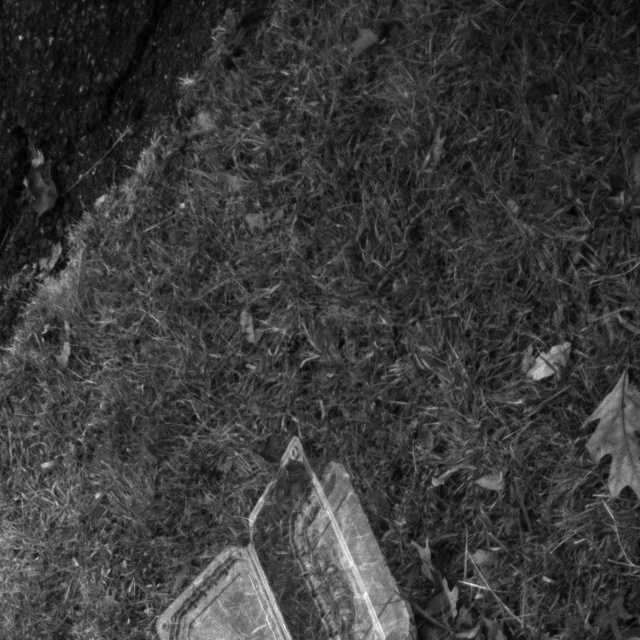container: (149, 431, 420, 640)
